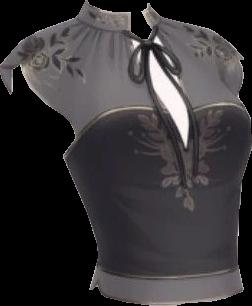Bodice: (59, 0, 251, 304)
Neckline: (62, 102, 245, 157), (86, 0, 153, 41)
Sleeve: (0, 24, 81, 135)
Sleeveline: (57, 25, 83, 136)
Waistline: (88, 283, 246, 305)
